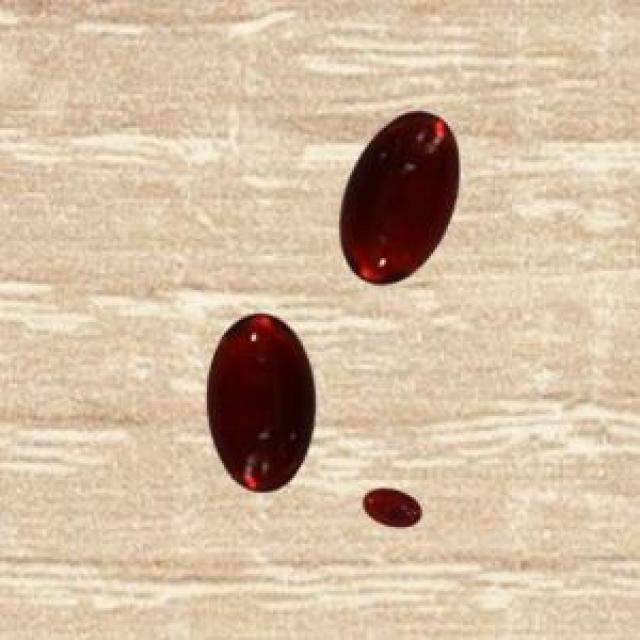Medicol: (328, 99, 466, 298), (197, 300, 324, 503), (354, 478, 435, 542)
